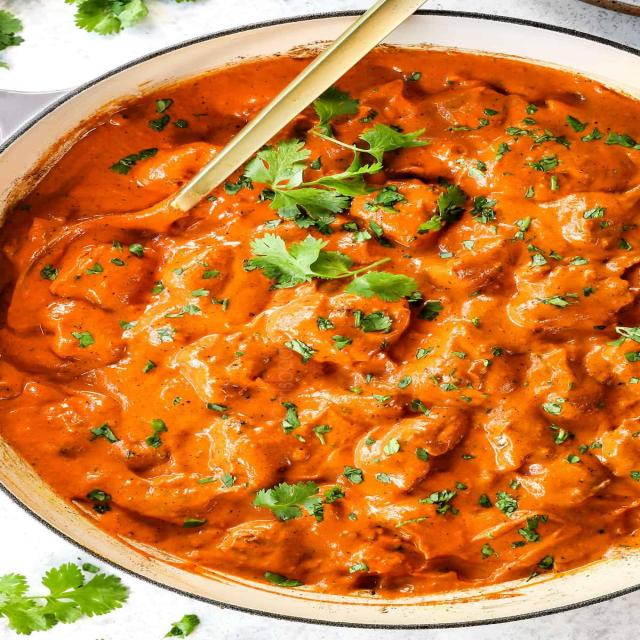chicken: (26, 54, 640, 613)
